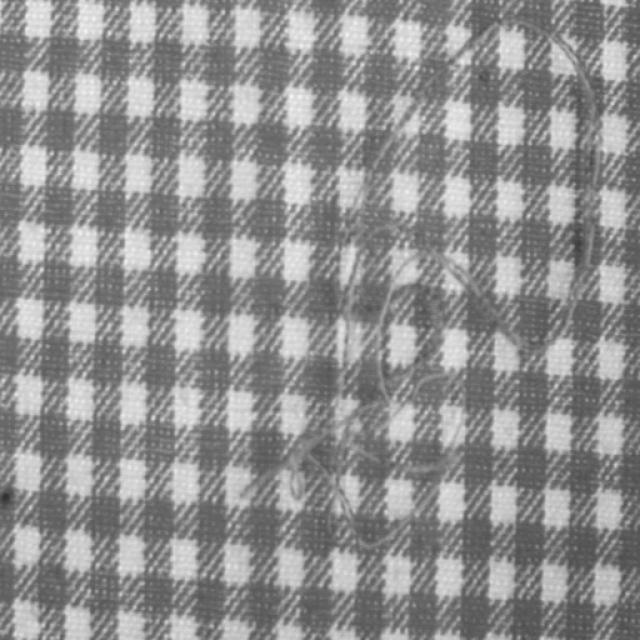Foreign-Body-Defect: (242, 216, 546, 556), (338, 11, 606, 350)
